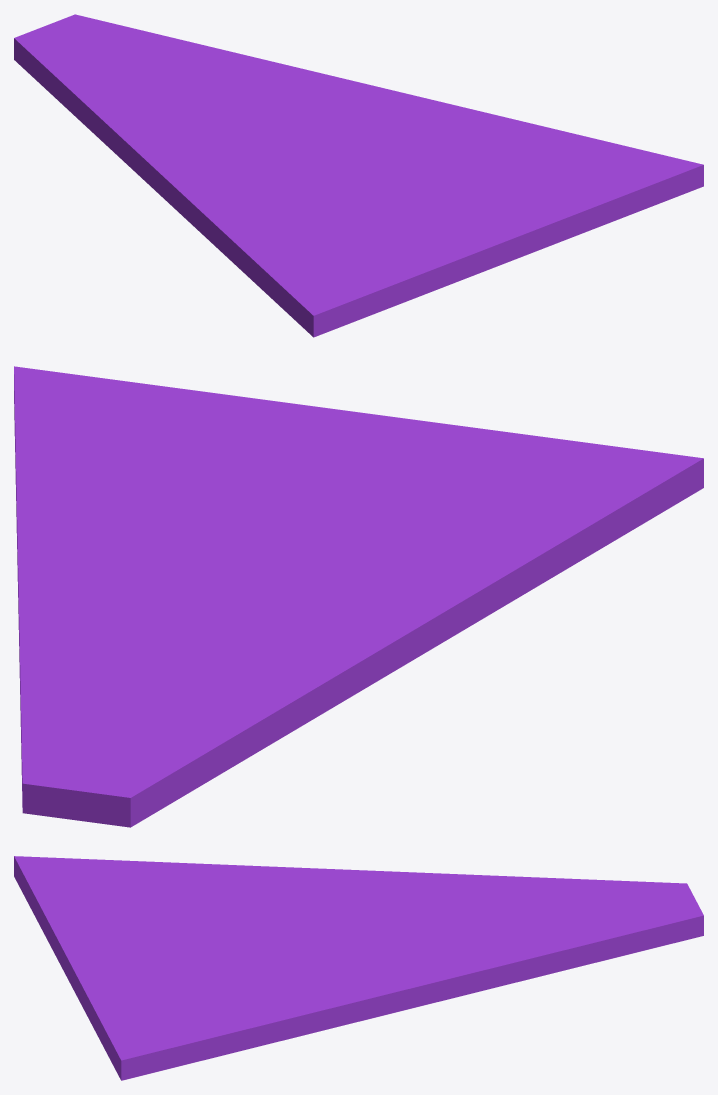
File: StairsStep_13.fbx
3 views of the same model, one above another, from view 1: azimuth 30°, elevation 25°; view 2: azimuth 150°, elevation 25°; view 3: azimuth 270°, elevation 25° (orthographic). The views are drawn at different scales.
Parts seen in each view (by area): view 1: StairsStep_13; view 2: StairsStep_13; view 3: StairsStep_13.
Boxes of the visible parts, box(x1,y1,x2,y2) form: StairsStep_13: box(14, 14, 703, 337); StairsStep_13: box(14, 366, 703, 827); StairsStep_13: box(14, 856, 703, 1080).
Bounding box in the file's own units: 387 × 17.94 × 552.
